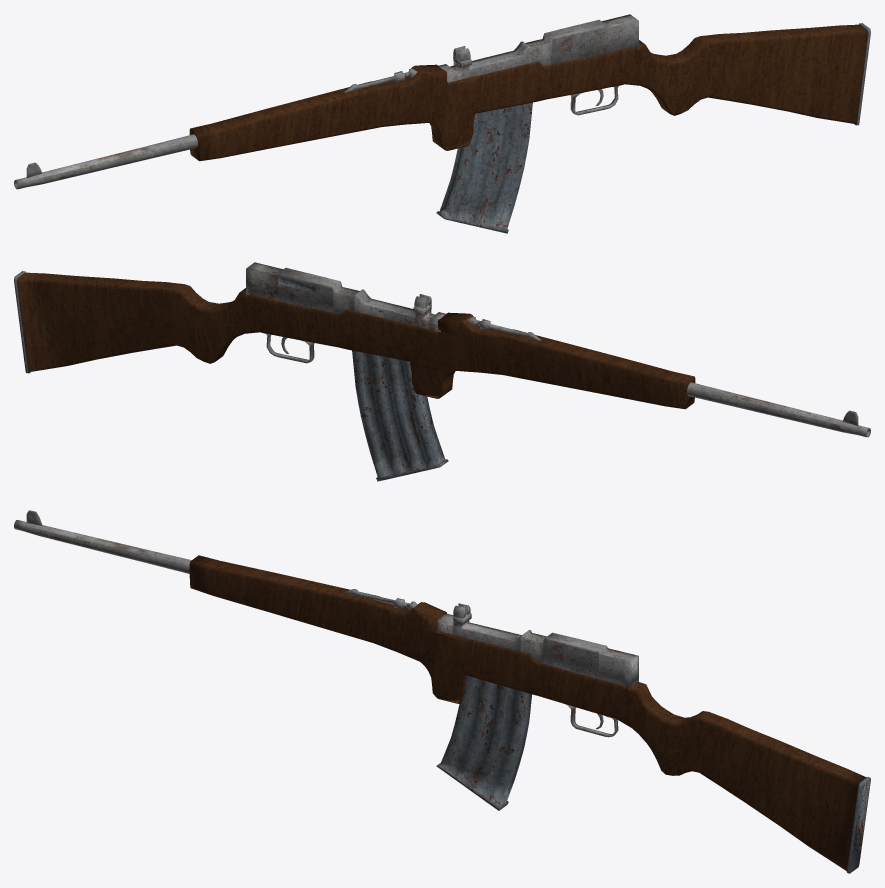
The model's file is semi auto rifle.glb.
The picture shows the model from 3 angles, top to bottom: view 1: azimuth 30°, elevation 25°; view 2: azimuth 150°, elevation 25°; view 3: azimuth 330°, elevation 25°; orthographic projection.
Parts seen in each view (by area): view 1: Rifle; view 2: Rifle; view 3: Rifle.
Part boxes in pixels (left/top/right/bottom): Rifle: left=14, top=14, right=870, bottom=233; Rifle: left=14, top=262, right=870, bottom=481; Rifle: left=14, top=510, right=870, bottom=873.
Bounding box in the file's own units: 22.94 × 4.96 × 0.5388.
3 materials, 3 textured.
